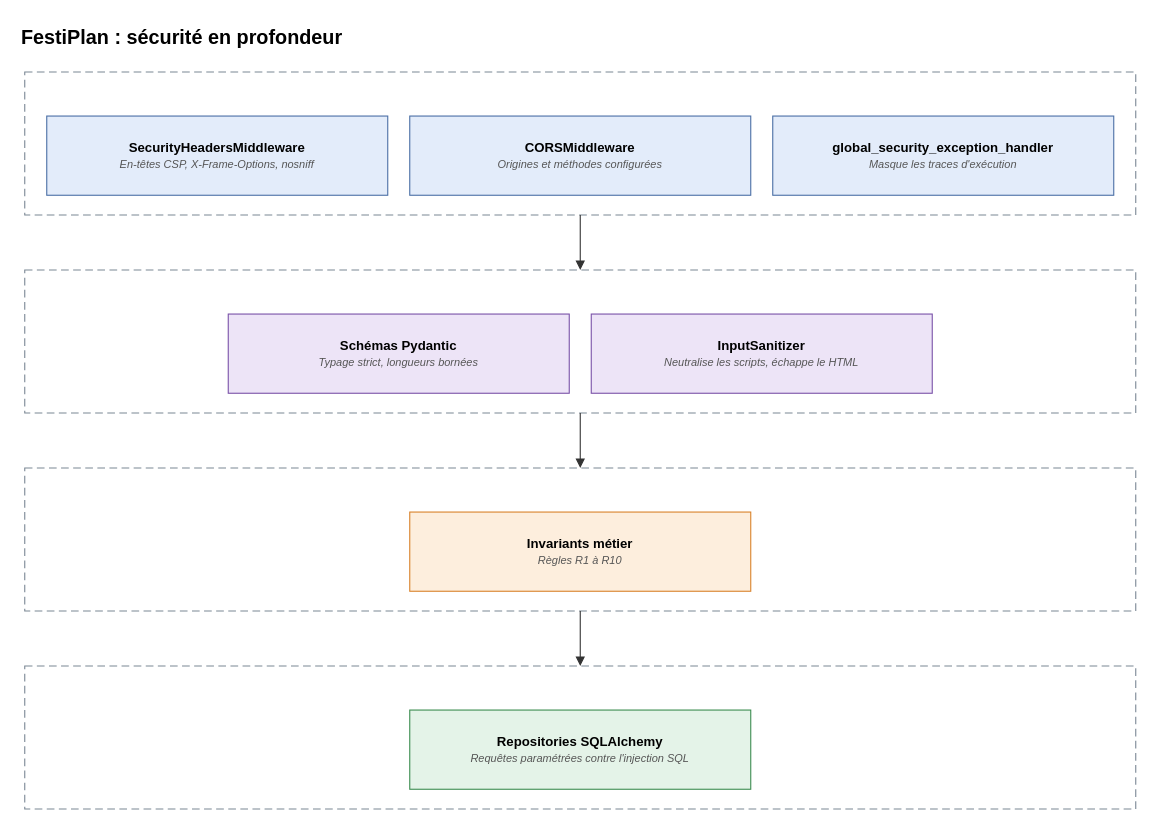
This 1159x828 diagram has some shape labels left out. Here are the shapes that lost their labels. From the top down, the box of each, then its label:
(24, 71, 1136, 215): Adaptateurs entrants
(24, 269, 1136, 413): Validation et assainissement (DTO)
(24, 467, 1136, 611): Cœur de domaine
(24, 665, 1136, 809): Adaptateurs sortants
